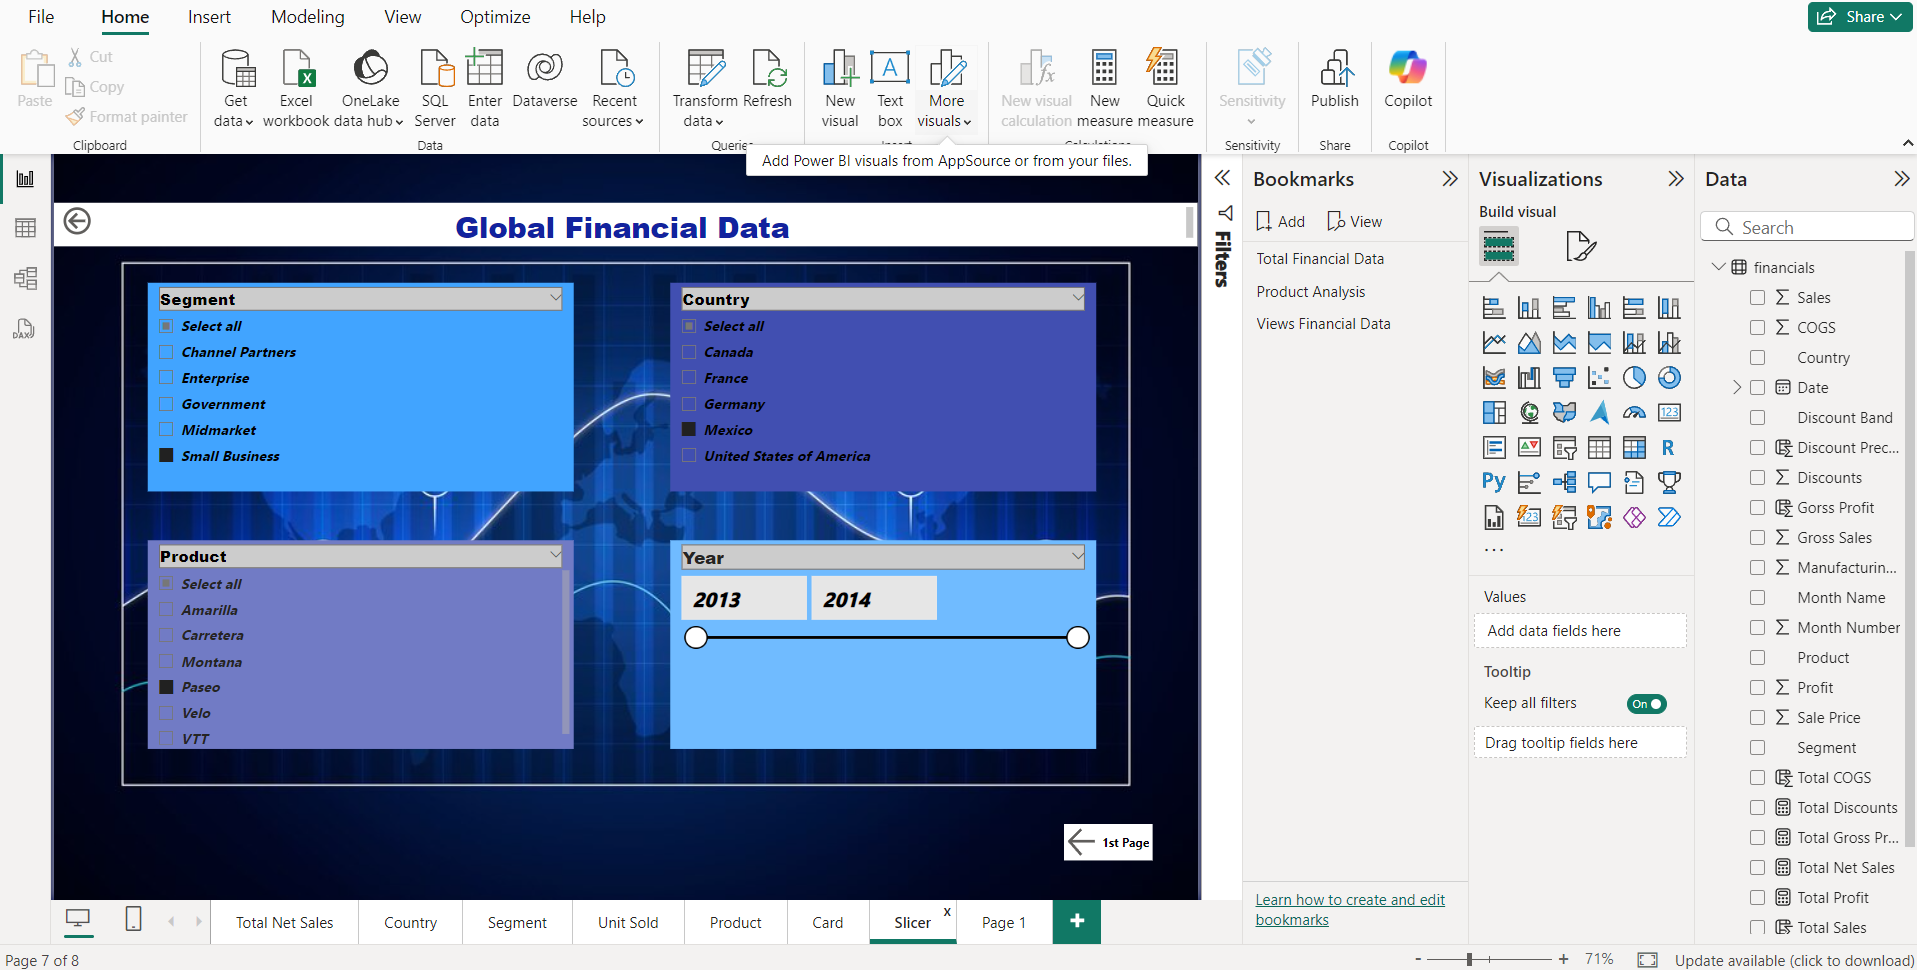

This screenshot's page, from the dashboard's own definition file:
{"tool":"powerbi","page":{"name":"Slicer","canvas":[1280,835],"ordinal":6},"visuals":[{"type":"textbox","box":[0,54.6,1280.2,49],"z":1},{"type":"slicer","fields":{"Values":["financials.Segment"]},"box":[104.9,144.1,477.1,233.7],"z":2},{"type":"slicer","fields":{"Values":["financials.Country"]},"box":[689.8,144.1,477.1,233.7],"z":3},{"type":"slicer","fields":{"Values":["financials.Year"]},"box":[689.8,432.3,477.1,233.7],"z":4},{"type":"slicer","fields":{"Values":["financials.Product"]},"box":[104.9,432.3,477.1,233.7],"z":5},{"type":"actionButton","box":[1130.5,749.9,99.3,40.6],"z":6},{"type":"actionButton","box":[5.6,54.6,99.3,40.6],"z":7}]}

Visuals, with their boxes on the page's 1280x835 design canvas (x1, y1, x2, y2). These are canvas units, not pixel positions in the 1917x970 screenshot, which may show the page scaled, cropped or inside an application window:
textbox: region(0, 55, 1280, 104)
slicer - financials.Segment: region(105, 144, 582, 378)
slicer - financials.Country: region(690, 144, 1167, 378)
slicer - financials.Year: region(690, 432, 1167, 666)
slicer - financials.Product: region(105, 432, 582, 666)
actionButton: region(1130, 750, 1230, 790)
actionButton: region(6, 55, 105, 95)
